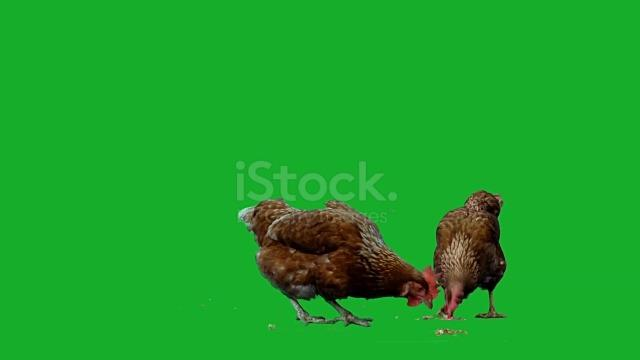Normal: (230, 202, 435, 319), (438, 183, 507, 325)
